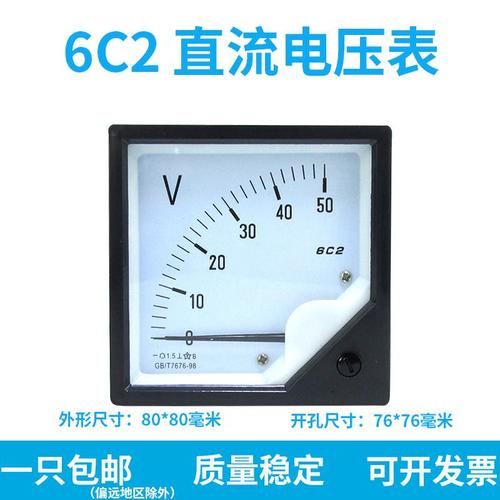pointer: (128, 142, 372, 387)
